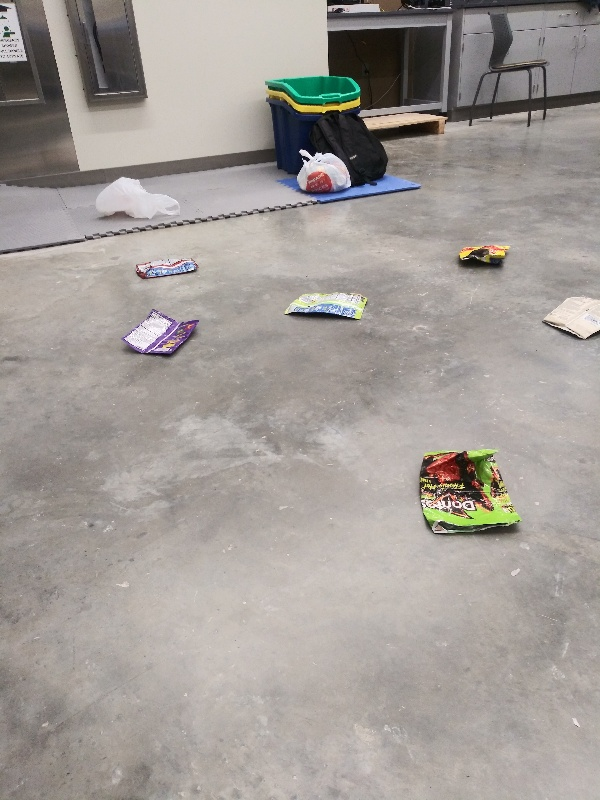bag: (410, 445, 528, 540), (114, 307, 208, 361), (280, 285, 371, 328), (539, 287, 600, 345), (127, 254, 206, 279), (456, 239, 514, 268)
